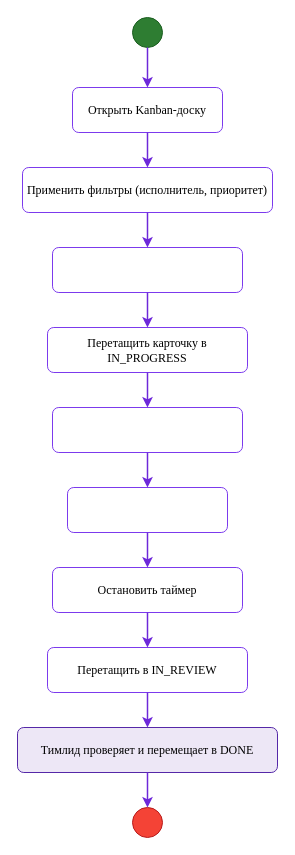
The diagram is 295 pixels wide and 855 high, and some of its shapes have lost their labels. Here are the shapes that lost their labels. From the top down, the centre of each, then its label:
the point at 147,269: Назначить себя (ПКМ)
the point at 147,429: Запустить таймер (ПКМ)
the point at 147,509: Выполнить задачу
